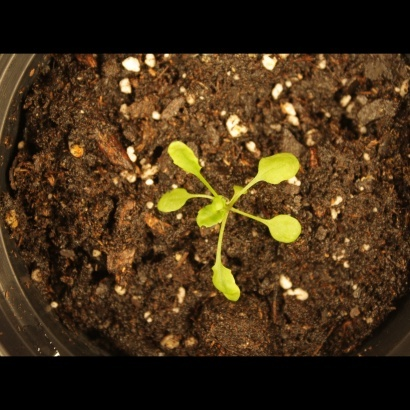leaf: (251, 146, 305, 191), (162, 134, 208, 181), (206, 261, 249, 309), (260, 207, 310, 248), (151, 185, 193, 218), (192, 199, 233, 231), (226, 179, 249, 202)
